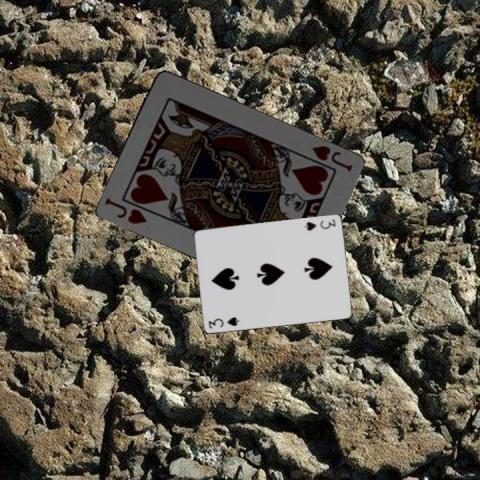3s: (302, 216, 337, 232), (206, 314, 241, 329)
Jh: (101, 195, 148, 226), (308, 143, 354, 173)
